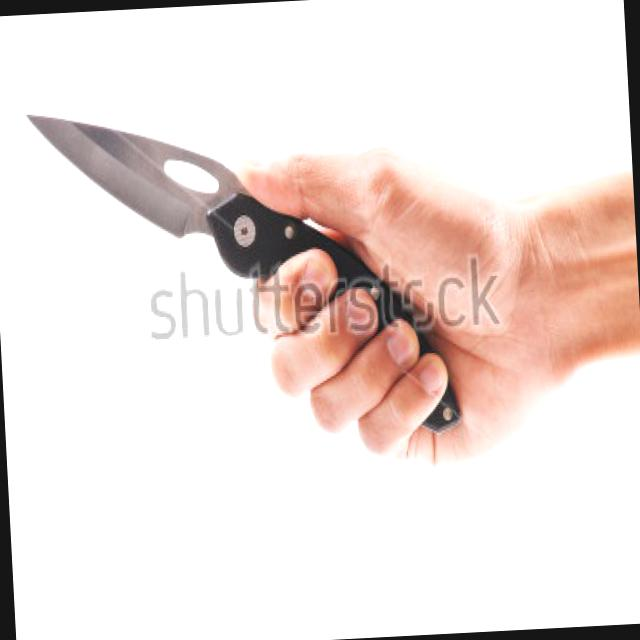knife: (18, 87, 322, 290)
